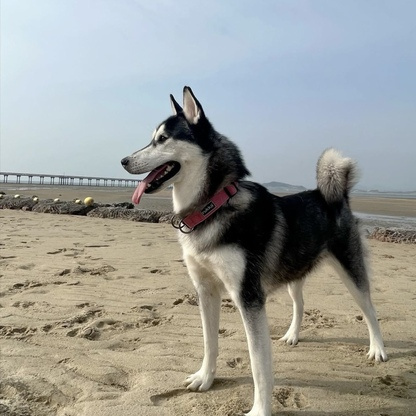husky: (116, 83, 392, 416)
